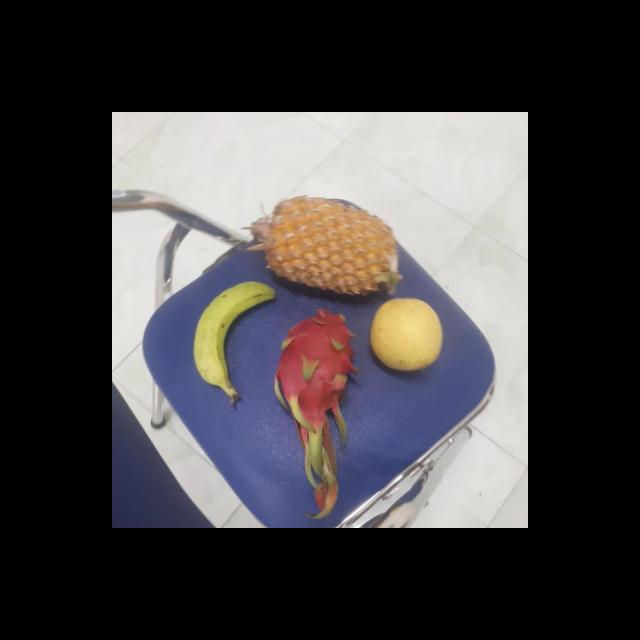banana: (192, 282, 280, 386)
pineapple: (260, 198, 402, 302)
pitaya: (274, 308, 358, 419)
